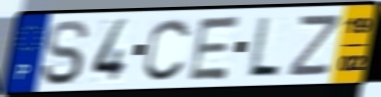4: (88, 16, 132, 87)
C: (141, 16, 194, 84)
E: (184, 14, 244, 83)
L: (244, 15, 283, 79)
S: (38, 18, 92, 87)
Z: (284, 12, 345, 79)
